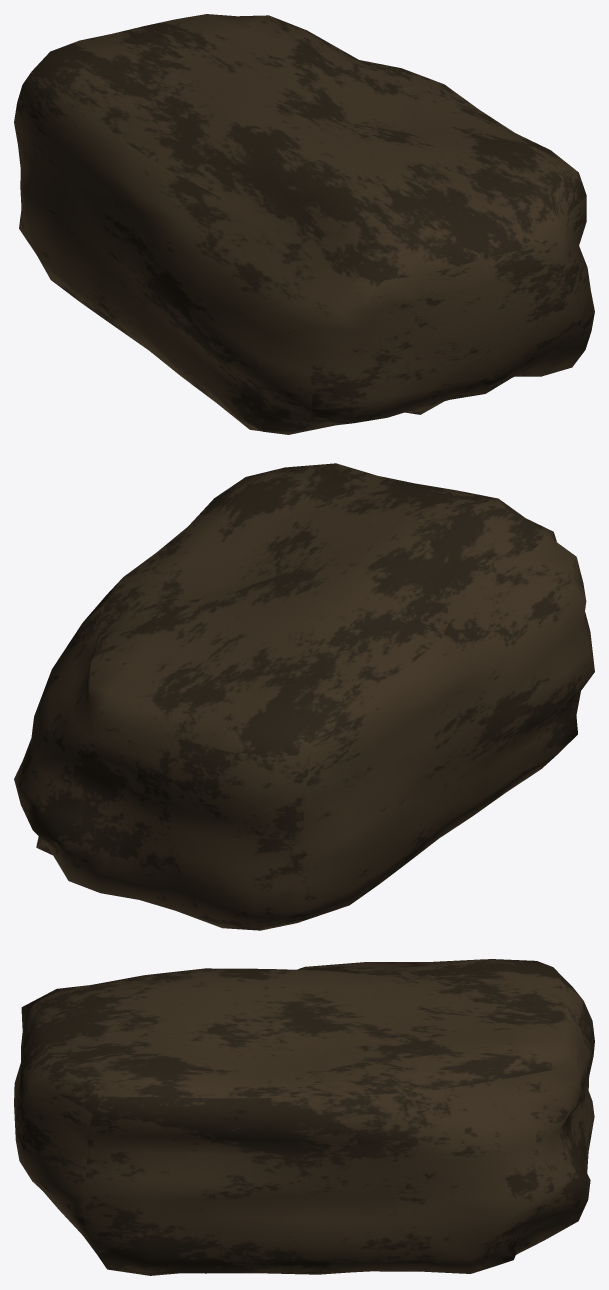
Rendered from Roca1.fbx.
The picture shows the model from 3 angles, top to bottom: view 1: azimuth 30°, elevation 25°; view 2: azimuth 150°, elevation 25°; view 3: azimuth 270°, elevation 25°; orthographic projection. The views are drawn at different scales.
Visible parts, largest first — view 1: Piedra1; view 2: Piedra1; view 3: Piedra1.
Boxes of the visible parts, <box> form: Piedra1: <box>14,14,594,434</box>; Piedra1: <box>14,463,594,930</box>; Piedra1: <box>14,959,594,1275</box>.
Size of the model in its own units: 387 by 264 by 618.
Materials: 1 (1 with a texture image).
